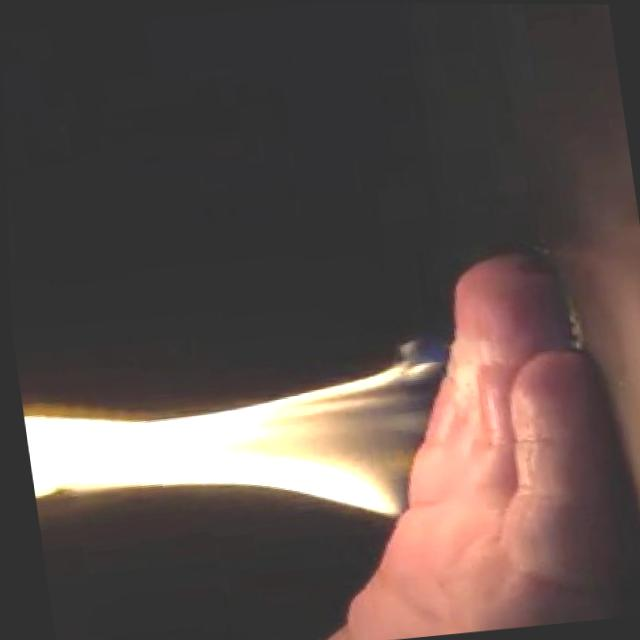Fire: (14, 334, 462, 562)
